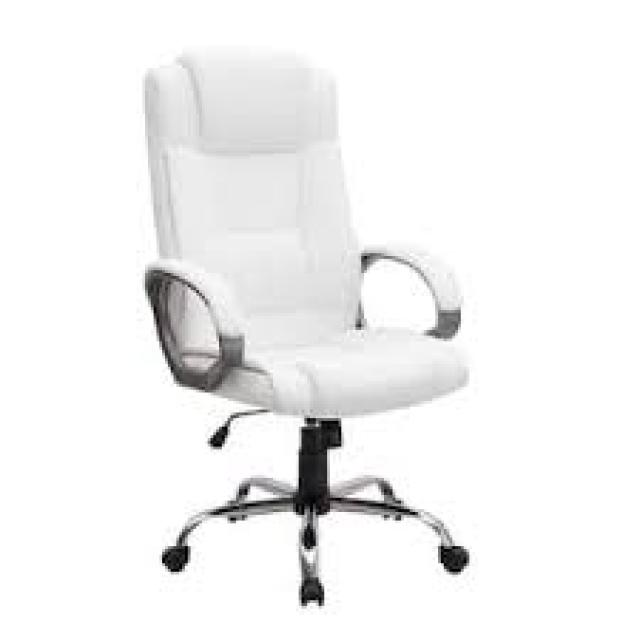chair: (71, 23, 498, 616)
